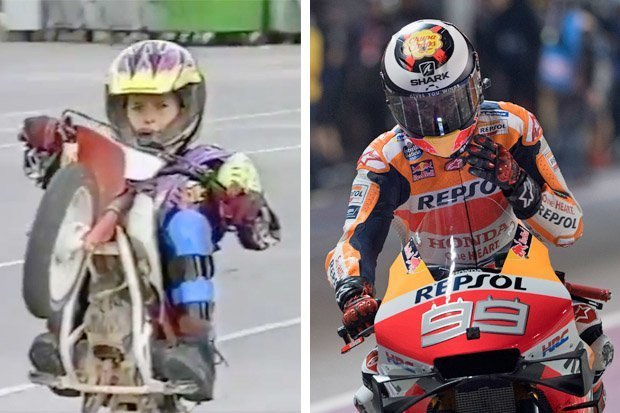helmet: (360, 17, 492, 158), (98, 32, 210, 87)
